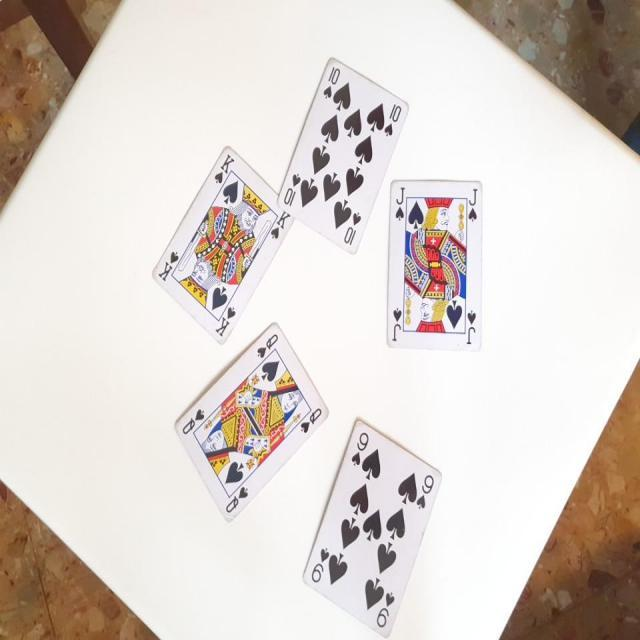10 of spades: (276, 55, 406, 262)
9 of spades: (298, 408, 440, 638)
jack of spades: (386, 176, 484, 356)
king of spades: (148, 138, 294, 346)
queen of spades: (168, 324, 332, 526)
